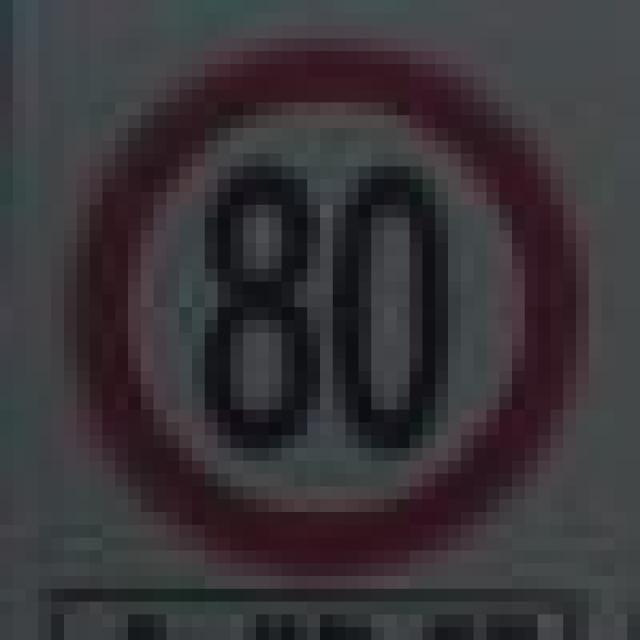SPEED_LIMIT_80: (51, 26, 576, 563)
